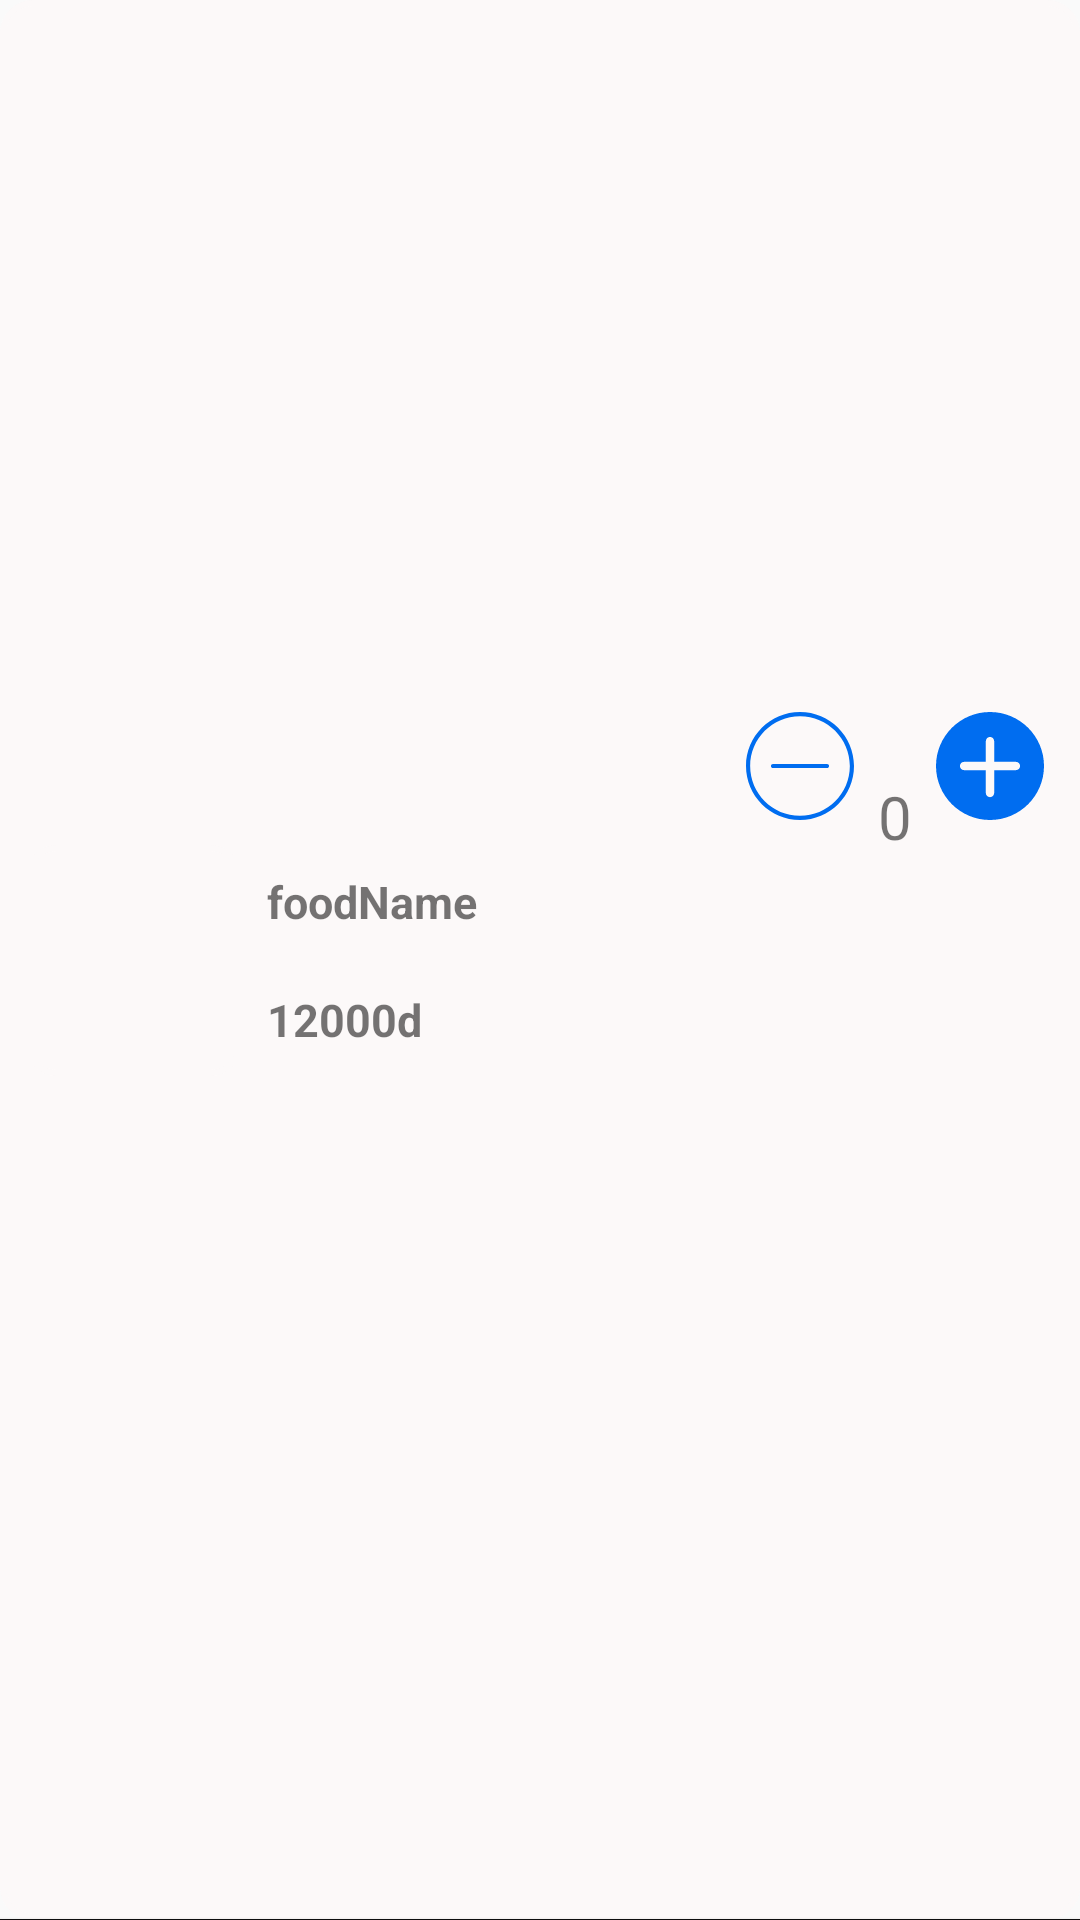

Screen size 1080w x 1920h. Icon name, then its box in pixels as (x1, y1, x2, y2):
add: (936, 712, 1044, 820)
minus: (746, 712, 854, 820)
